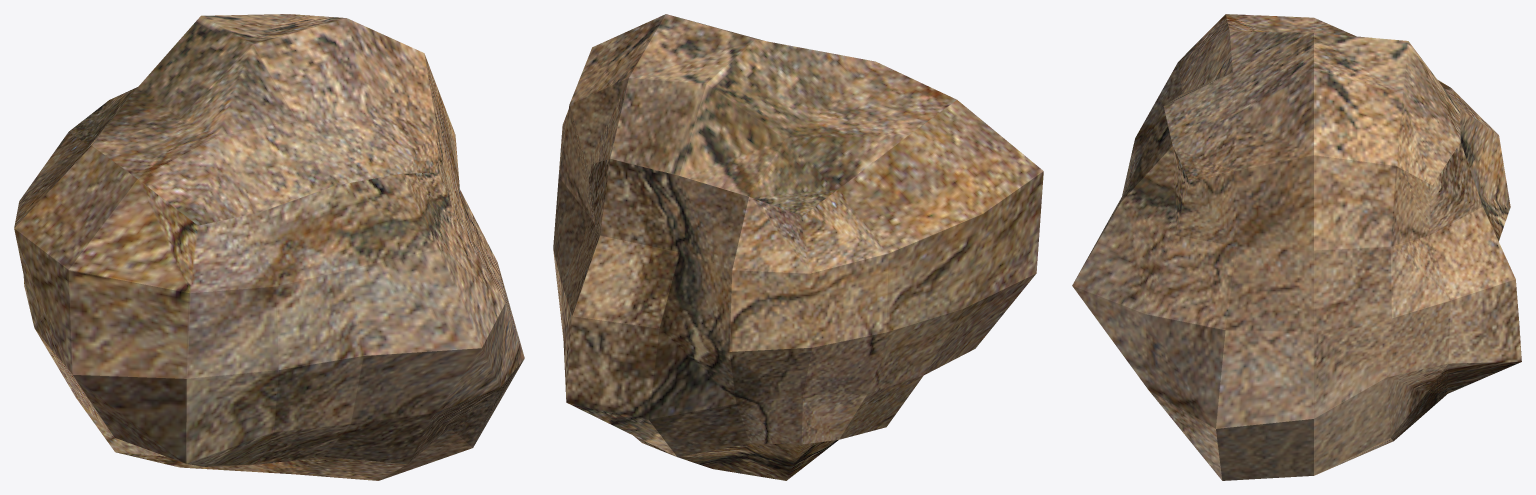
File: asteroid2.gltf
3 renders of one model, left to right at view 1: azimuth 30°, elevation 25°; view 2: azimuth 150°, elevation 25°; view 3: azimuth 270°, elevation 25°, orthographic. The views are drawn at different scales.
Visible parts, largest first — view 1: Cube; view 2: Cube; view 3: Cube.
Part boxes in pixels (<box>): Cube: <box>14,14,524,480</box>; Cube: <box>553,14,1043,480</box>; Cube: <box>1072,14,1521,480</box>.
Bounding box in the file's own units: 1.79 × 1.62 × 1.65.
1 material, 1 textured.
